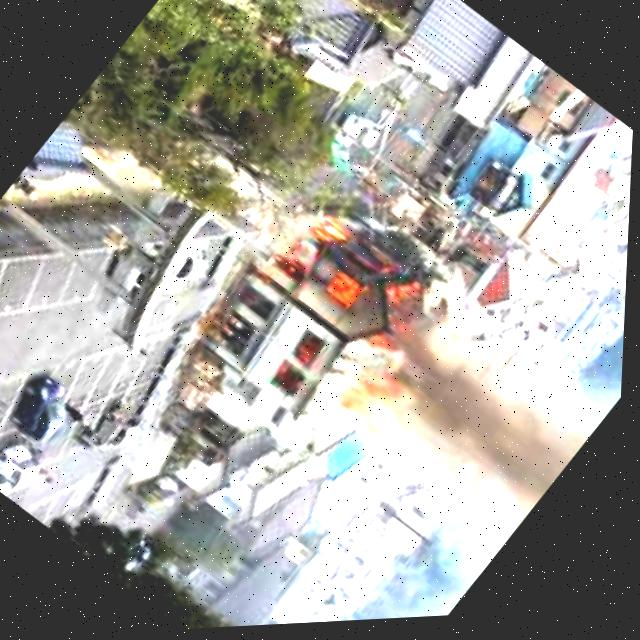Fire: (279, 204, 429, 346)
Smoke: (345, 306, 608, 561)
